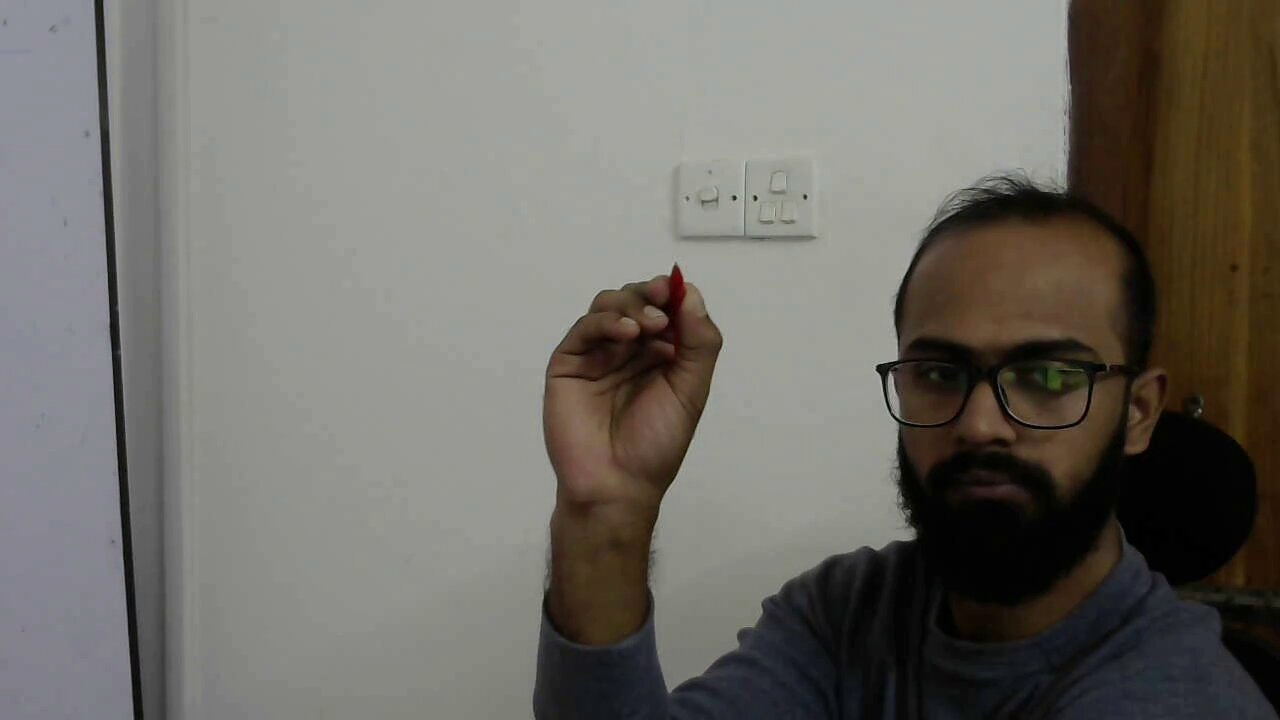pointer: (556, 270, 725, 403)
